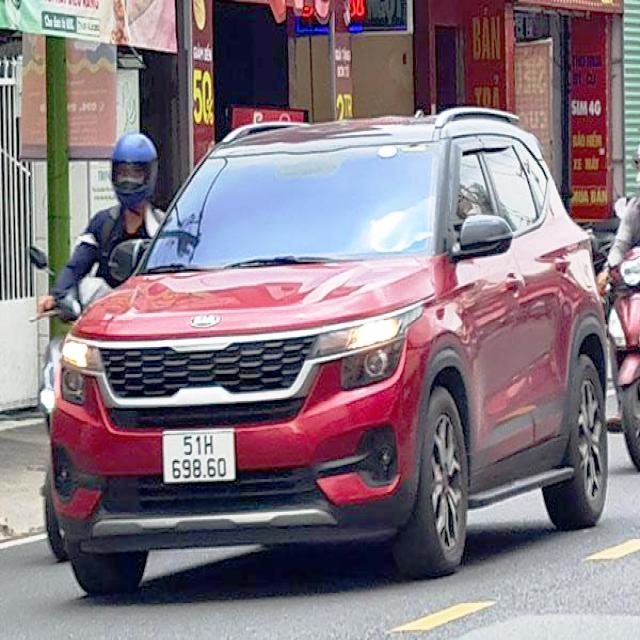license_plate: (161, 431, 235, 482)
